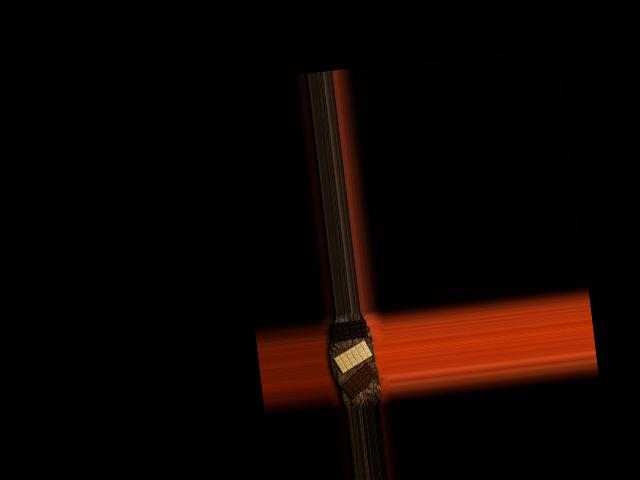chocolate: (329, 318, 367, 341)
